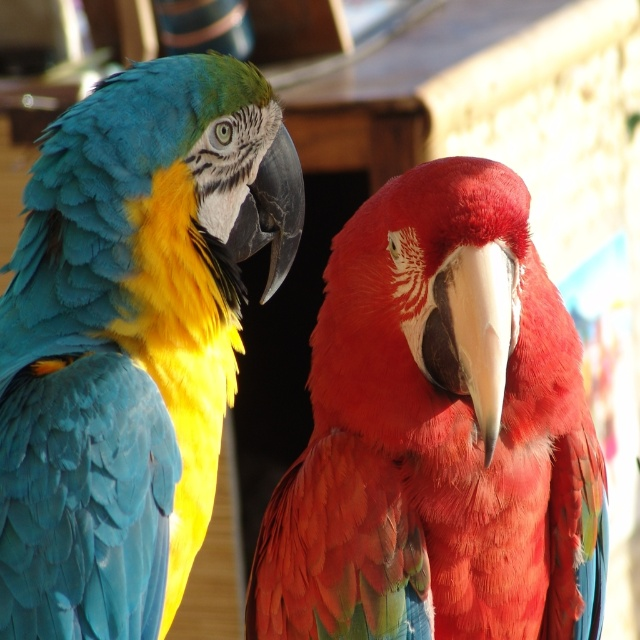Parrot: (0, 47, 307, 640), (248, 152, 608, 640)
